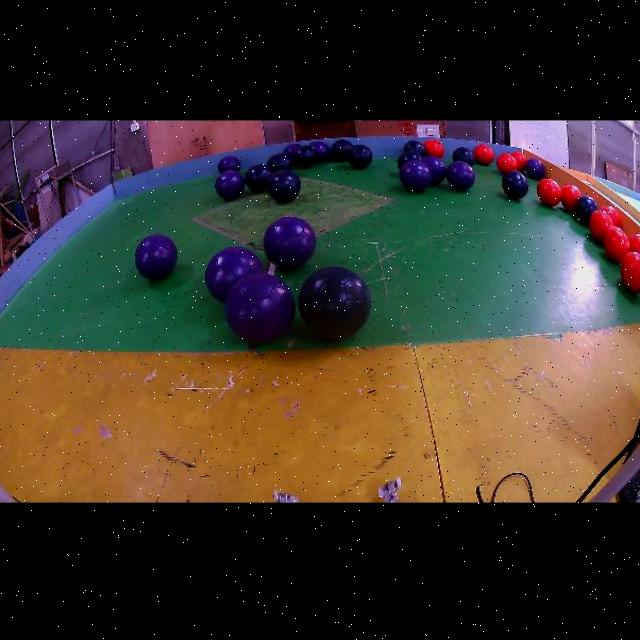B: (298, 267, 372, 340), (267, 170, 302, 203), (245, 164, 274, 192), (501, 171, 529, 200), (575, 195, 598, 225), (347, 144, 373, 170), (292, 146, 316, 170), (267, 154, 294, 172), (397, 151, 423, 169), (331, 140, 352, 162), (452, 147, 474, 167), (404, 140, 427, 158)
P: (225, 273, 295, 344), (205, 247, 264, 302), (263, 216, 316, 269), (134, 235, 178, 280), (399, 160, 432, 192), (215, 171, 245, 200), (447, 162, 476, 191), (421, 156, 447, 184), (525, 158, 545, 180), (218, 155, 241, 174), (310, 142, 331, 162), (283, 143, 302, 157)
R: (605, 227, 630, 263), (589, 211, 614, 243), (621, 252, 640, 293), (537, 179, 562, 207), (561, 184, 581, 212), (601, 205, 621, 228), (474, 144, 494, 166), (497, 154, 518, 174), (424, 140, 444, 159), (512, 152, 526, 172), (629, 233, 640, 254)
